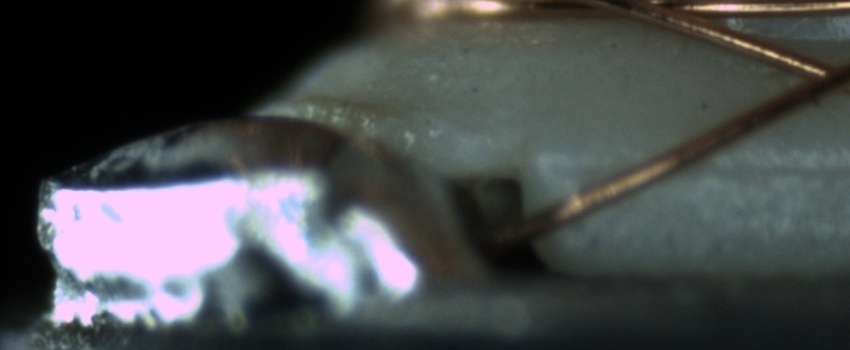CL: (777, 44, 849, 105)
DL: (603, 135, 850, 201)
